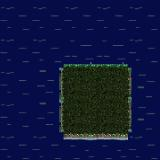Slow: (0, 0, 60, 160), (59, 0, 132, 61), (133, 0, 160, 160), (60, 141, 133, 160)
